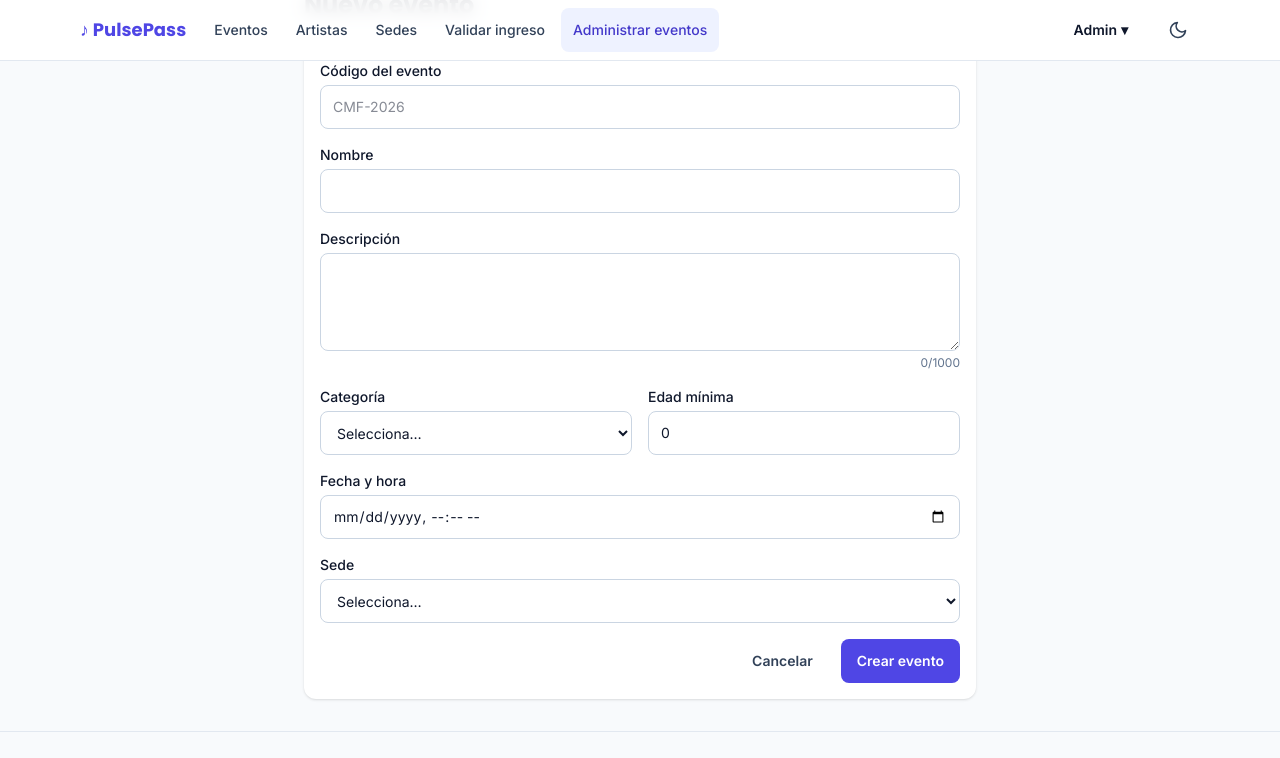
ADMIN · crear evento › TEST-FE-ADM-001: campos vacíos → errores y 0 peticiones
(page scrolled)
Click the button "Crear evento".
click(900, 661)  # box [841,639,960,683]
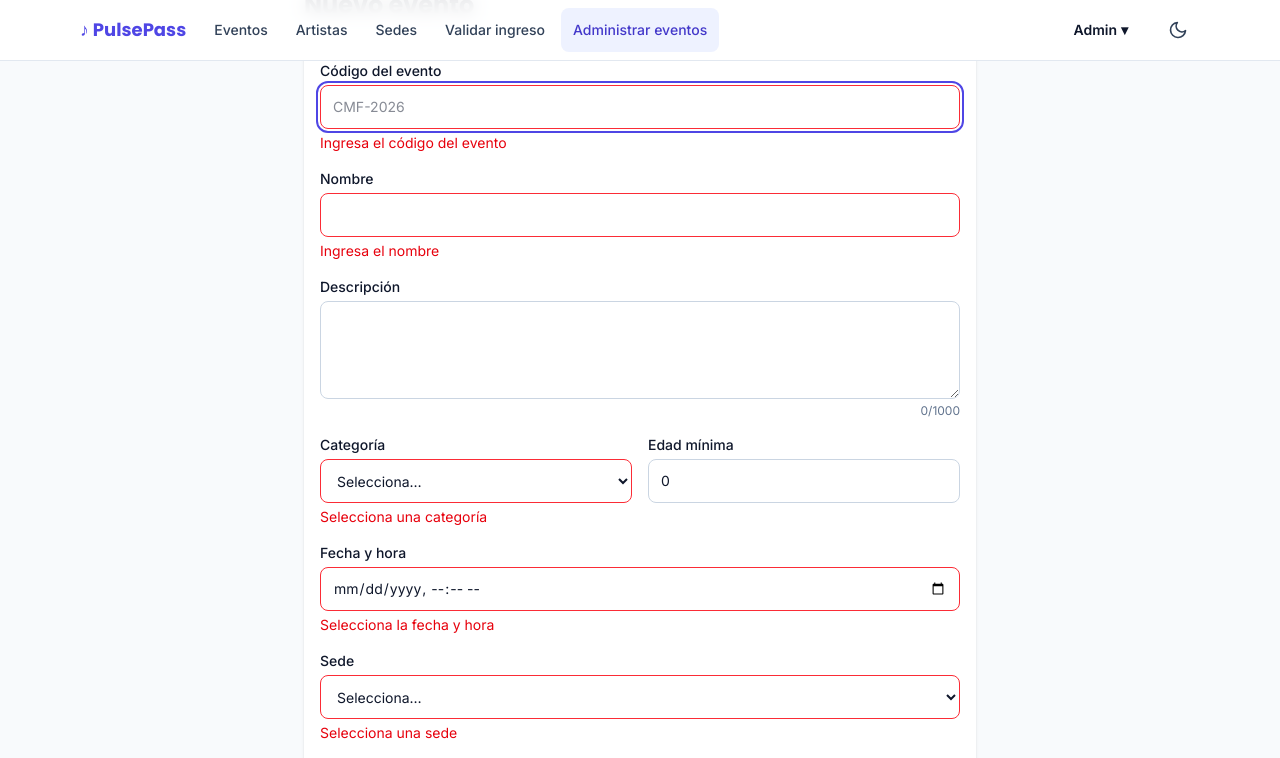
Expected: the text "Ingresa el código del evento" is shown, [320,134,507,151]
Expected: the text "Ingresa el nombre" is shown, [320,242,439,259]
Expected: the text "Selecciona una categoría" is shown, [320,508,487,525]
